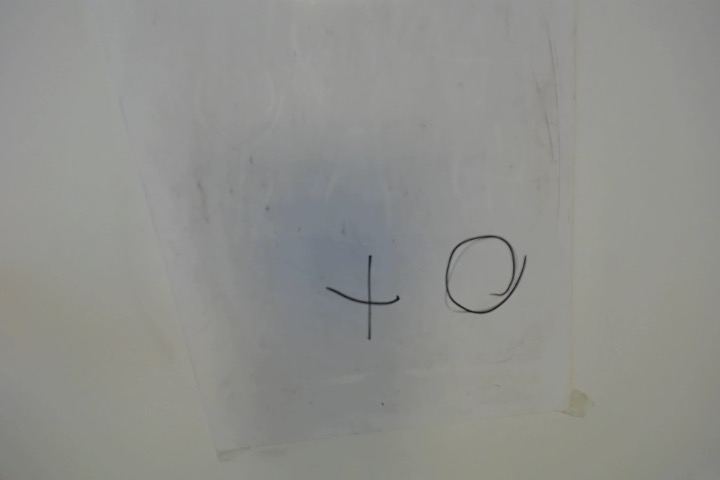0: (437, 232, 529, 316)
x: (322, 256, 404, 339)
